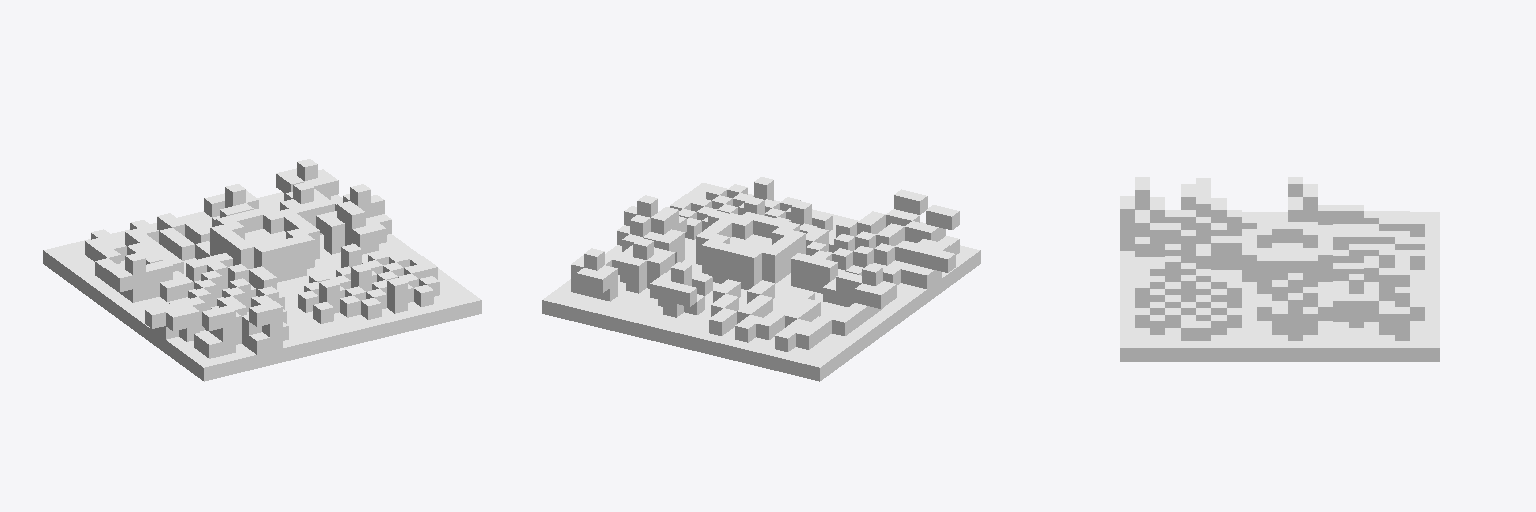
Rendered from VeggiePlate.obj.
3 views of the same model, side by side, from view 1: azimuth 30°, elevation 25°; view 2: azimuth 150°, elevation 25°; view 3: azimuth 270°, elevation 25° (orthographic).
Bounding box in the file's own units: 22 × 5 × 21.